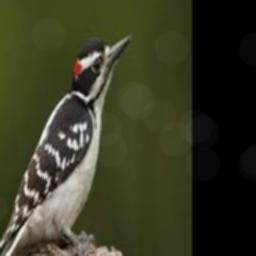Woodpecker: (0, 33, 131, 256)
